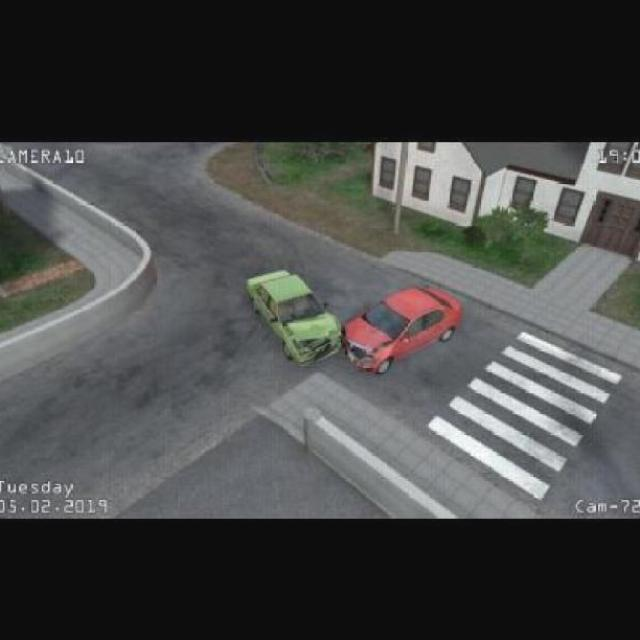accident: (241, 264, 450, 372)
